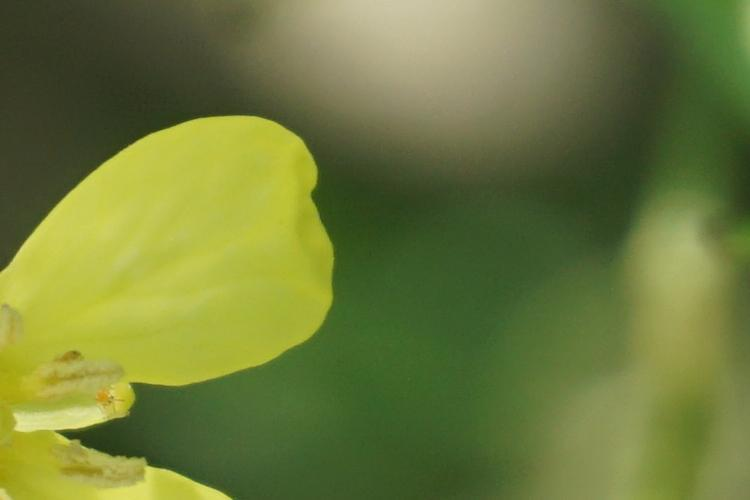yellow: (2, 107, 339, 500)
